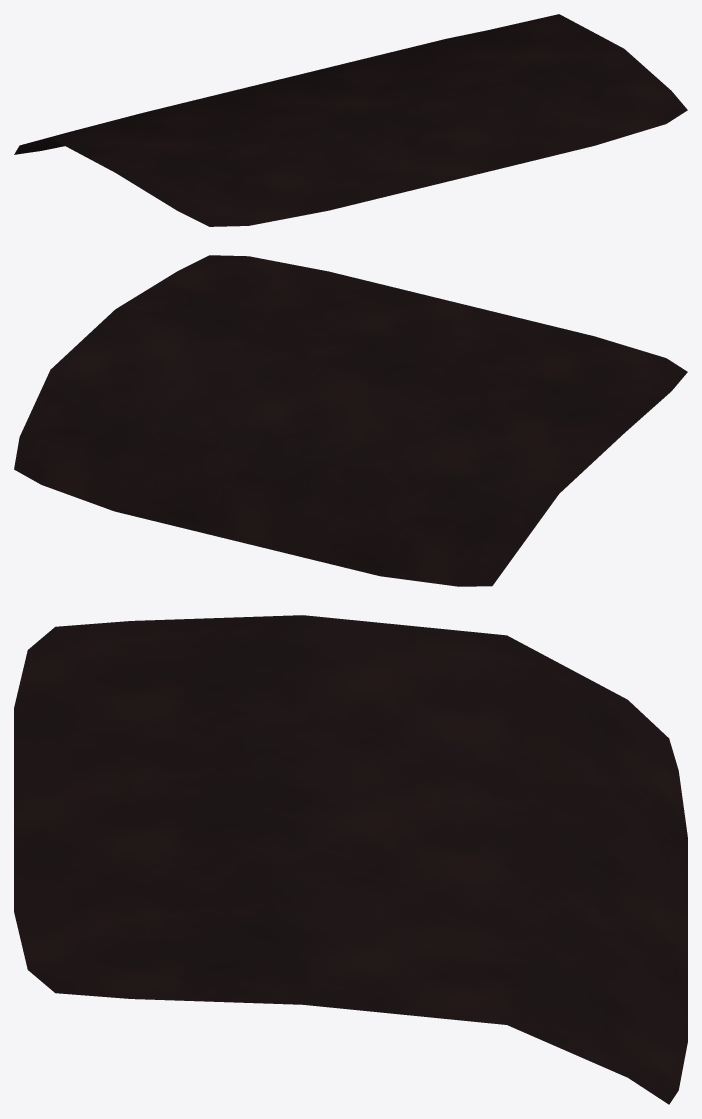
File: model_hazewall.glb
3 views of the same model, one above another, from view 1: azimuth 30°, elevation 25°; view 2: azimuth 150°, elevation 25°; view 3: azimuth 270°, elevation 25° (orthographic). The views are drawn at different scales.
Parts seen in each view (by area): view 1: A:\.Yandex.YandexDisk.SK SHARED FILES.Game models.1 Exported; view 2: A:\.Yandex.YandexDisk.SK SHARED FILES.Game models.1 Exported; view 3: A:\.Yandex.YandexDisk.SK SHARED FILES.Game models.1 Exported.
Part boxes in pixels (box(x1,y1,x2,y2)): A:\.Yandex.YandexDisk.SK SHARED FILES.Game models.1 Exported: box(14, 14, 687, 226); A:\.Yandex.YandexDisk.SK SHARED FILES.Game models.1 Exported: box(14, 255, 687, 586); A:\.Yandex.YandexDisk.SK SHARED FILES.Game models.1 Exported: box(14, 615, 687, 1104).
Size of the model in its own units: 13.4 by 2.08 by 9.79.
1 material, 1 textured.
